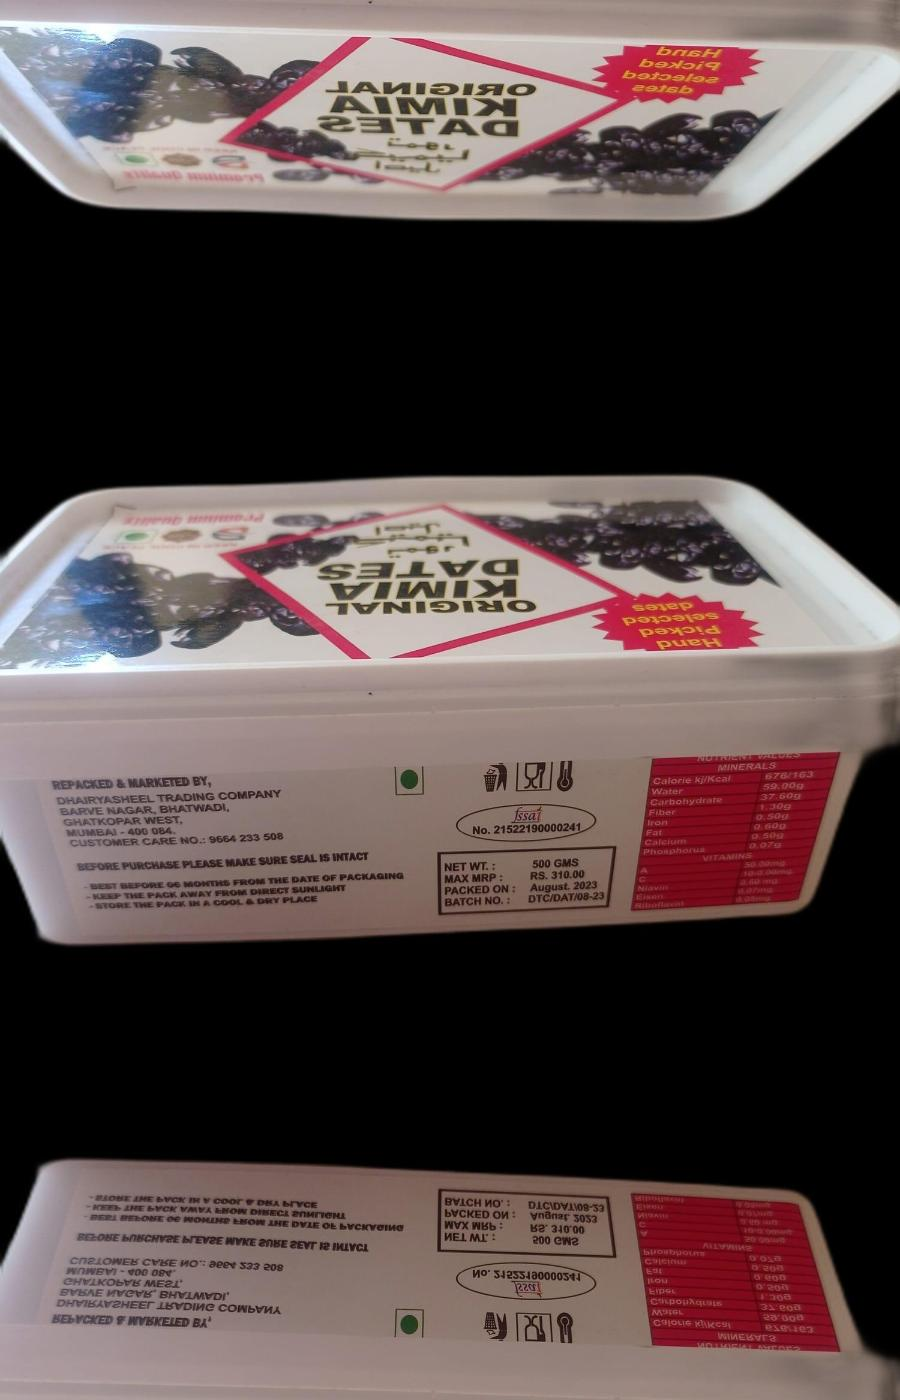Kimia Dates: (0, 464, 900, 948), (0, 1154, 900, 1400), (0, 0, 900, 230)
